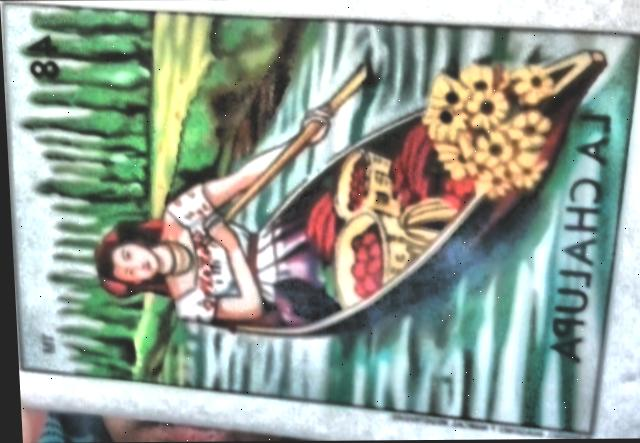La Chalupa: (4, 4, 640, 433)
